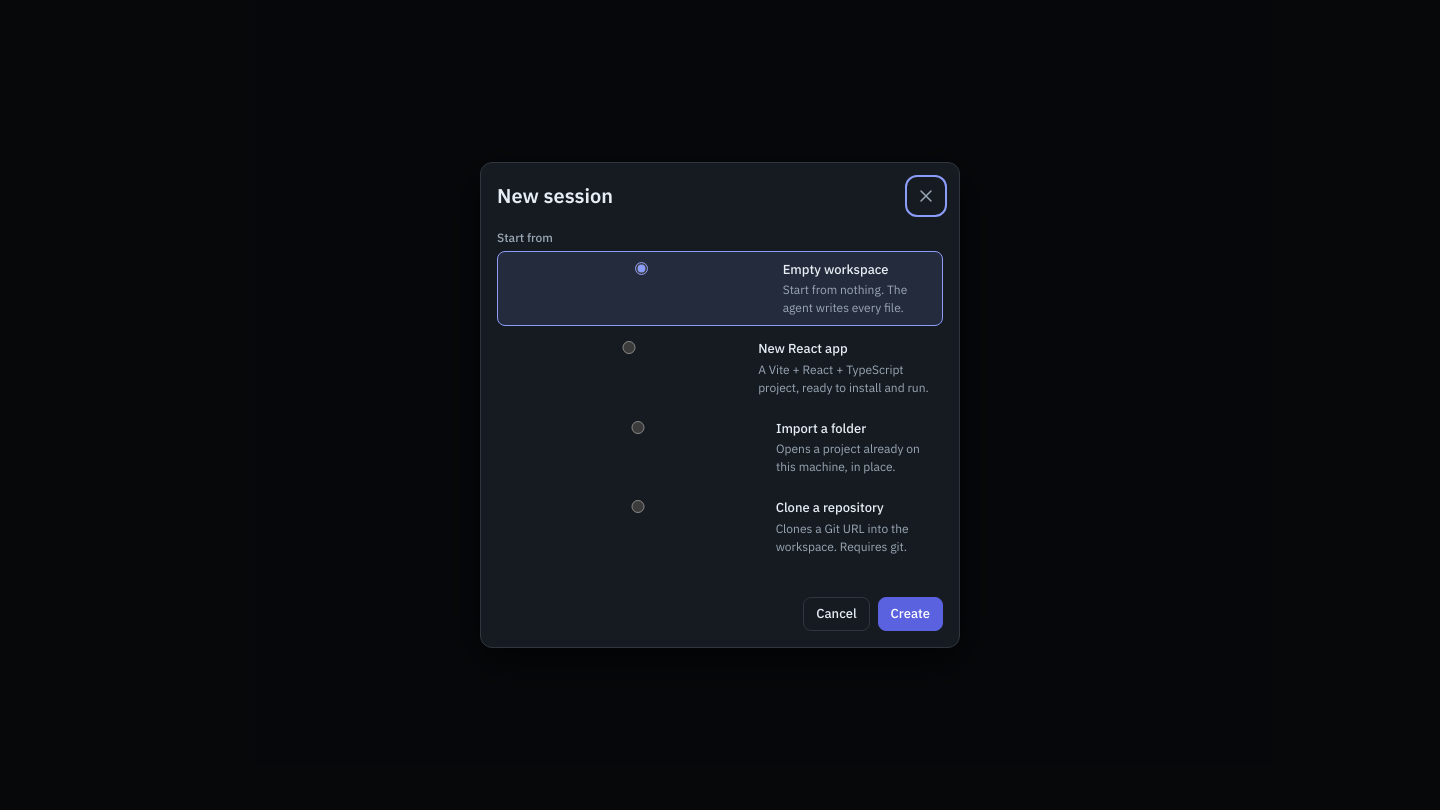
Test: NewSessionDialog › keeps the dialog open and shows the backend's message on failure
This screenshot has width=1440, height=810.
Click the radio button labelled "Clone a repository" at {"x": 638, "y": 507}, box x1=511 y1=500 x2=765 y2=513
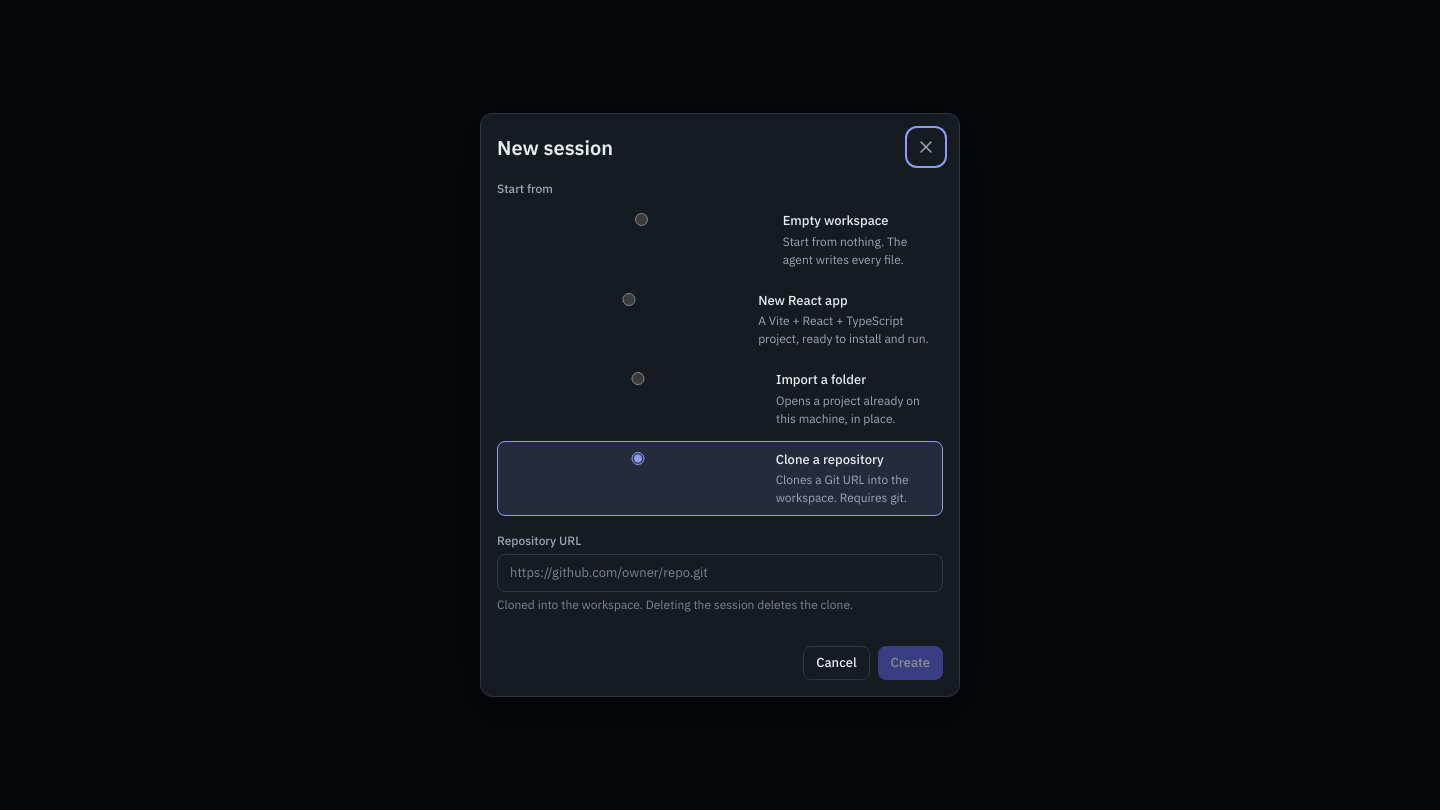
Type "https://example.test/repo.git" into the field labelled "Repository URL" at {"x": 720, "y": 573}, box x1=497 y1=554 x2=943 y2=592
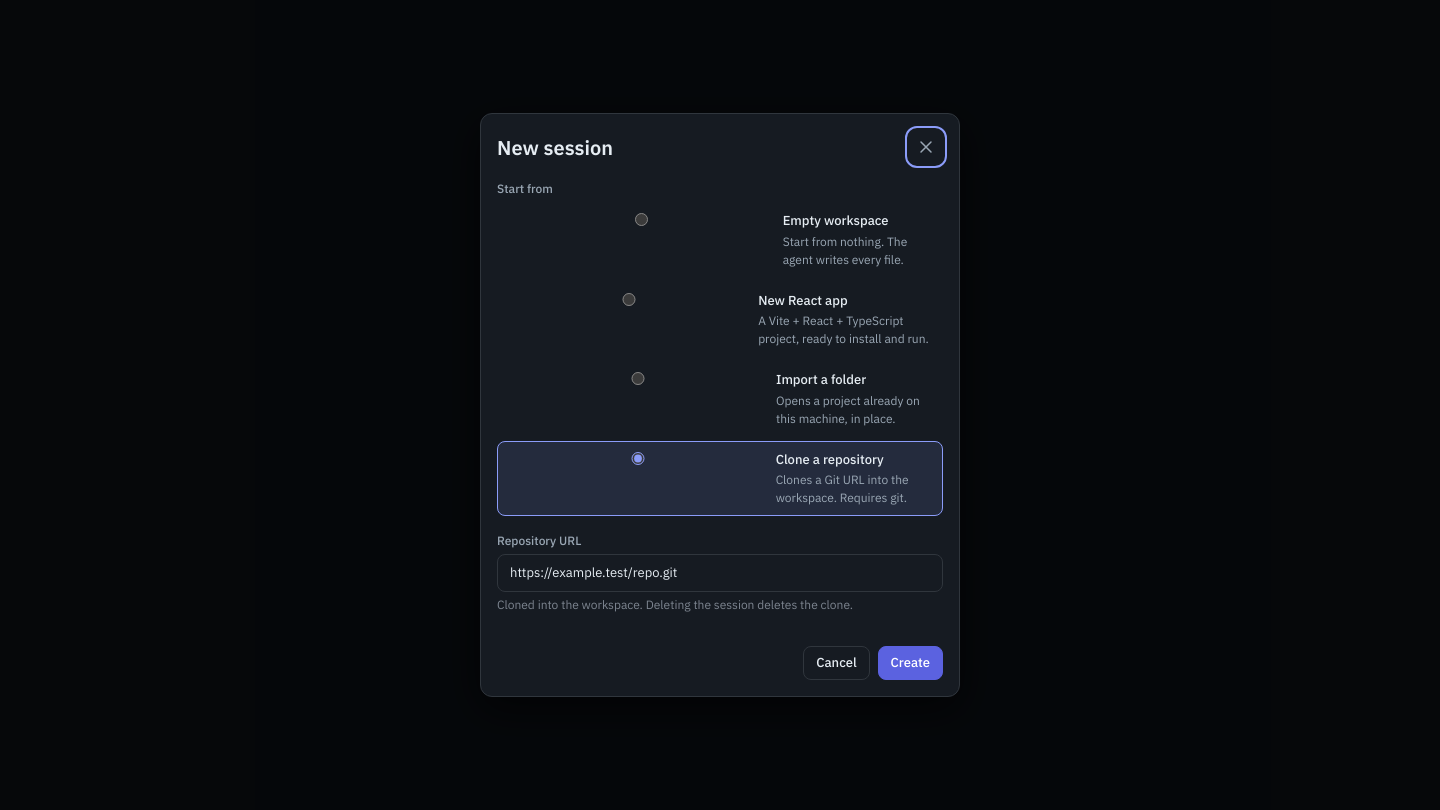
Click the button "Create" at {"x": 910, "y": 663}, box x1=878 y1=646 x2=943 y2=680
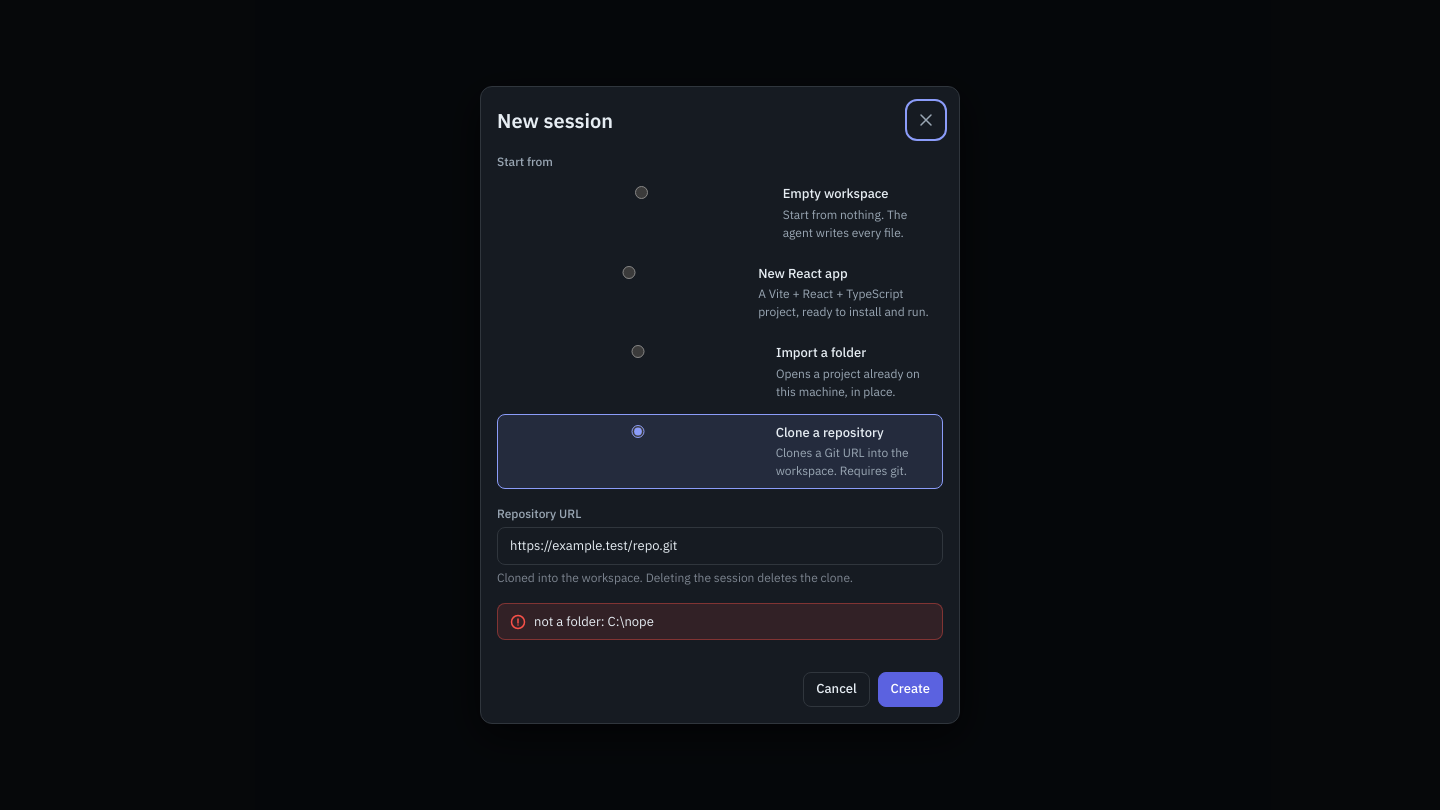
Result: the text "not a folder: C:\\nope" is shown at x1=534 y1=613 x2=654 y2=630
